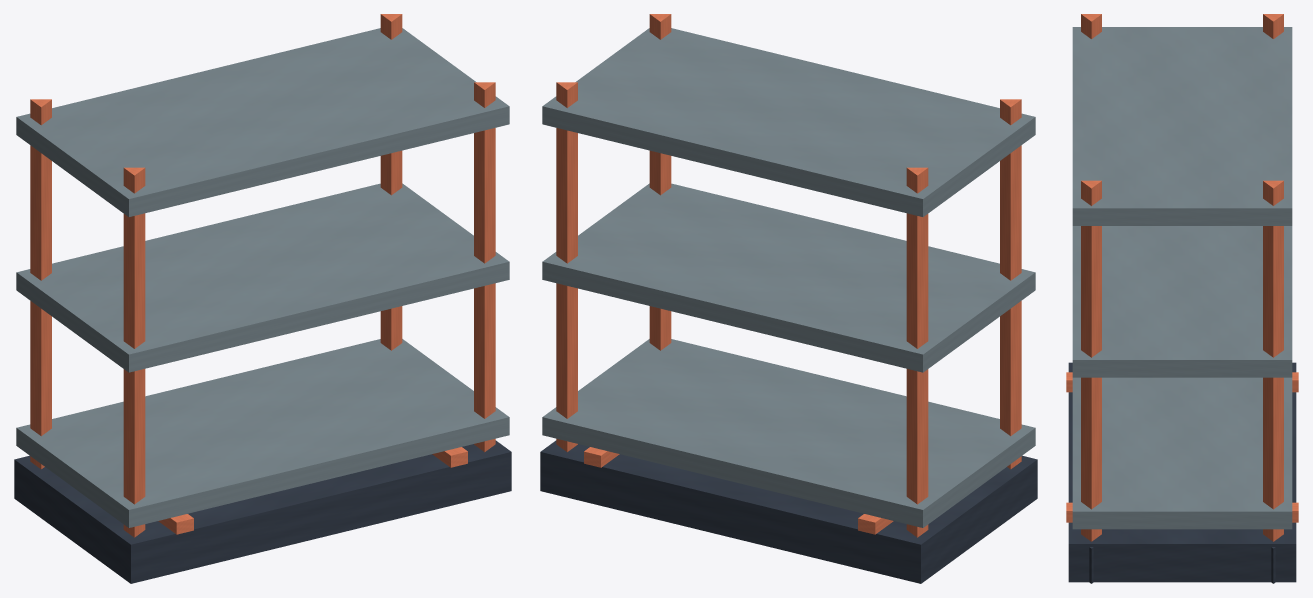
The model's file is atlas100-s023-a06.lod2.glb.
3 renders of one model, left to right at view 1: azimuth 30°, elevation 25°; view 2: azimuth 150°, elevation 25°; view 3: azimuth 270°, elevation 25°, orthographic. The views are drawn at different scales.
Parts seen in each view (by area): view 1: atlas100-s023-a06:part-013, atlas100-s023-a06:part-011, atlas100-s023-a06:part-012, atlas100-s023-a06:part-000, atlas100-s023-a06:part-005, atlas100-s023-a06:part-009, atlas100-s023-a06:part-003, atlas100-s023-a06:part-007; view 2: atlas100-s023-a06:part-013, atlas100-s023-a06:part-011, atlas100-s023-a06:part-012, atlas100-s023-a06:part-000, atlas100-s023-a06:part-003, atlas100-s023-a06:part-007, atlas100-s023-a06:part-005, atlas100-s023-a06:part-009; view 3: atlas100-s023-a06:part-013, atlas100-s023-a06:part-011, atlas100-s023-a06:part-012, atlas100-s023-a06:part-000, atlas100-s023-a06:part-007, atlas100-s023-a06:part-009, atlas100-s023-a06:part-003, atlas100-s023-a06:part-005.
Boxes of the visible parts, box(x1,y1,x2,y2) form: atlas100-s023-a06:part-013: box(16, 28, 509, 216); atlas100-s023-a06:part-011: box(16, 339, 509, 527); atlas100-s023-a06:part-012: box(16, 183, 509, 372); atlas100-s023-a06:part-000: box(14, 440, 511, 583); atlas100-s023-a06:part-005: box(123, 167, 145, 537); atlas100-s023-a06:part-009: box(474, 82, 495, 452); atlas100-s023-a06:part-003: box(30, 99, 51, 469); atlas100-s023-a06:part-007: box(380, 14, 402, 350); atlas100-s023-a06:part-013: box(542, 28, 1035, 216); atlas100-s023-a06:part-011: box(542, 339, 1035, 527); atlas100-s023-a06:part-012: box(542, 183, 1035, 372); atlas100-s023-a06:part-000: box(540, 440, 1037, 583); atlas100-s023-a06:part-003: box(906, 167, 928, 537); atlas100-s023-a06:part-007: box(556, 82, 577, 452); atlas100-s023-a06:part-005: box(1000, 99, 1021, 469); atlas100-s023-a06:part-009: box(649, 14, 671, 350); atlas100-s023-a06:part-013: box(1072, 27, 1292, 225); atlas100-s023-a06:part-011: box(1072, 377, 1292, 529); atlas100-s023-a06:part-012: box(1072, 226, 1292, 377); atlas100-s023-a06:part-000: box(1068, 362, 1296, 582); atlas100-s023-a06:part-007: box(1263, 180, 1283, 541); atlas100-s023-a06:part-009: box(1081, 180, 1101, 541); atlas100-s023-a06:part-003: box(1263, 14, 1283, 38); atlas100-s023-a06:part-005: box(1081, 14, 1101, 38).
Bounding box in the file's own units: 2.66 × 2.66 × 1.43.
Materials: 3 (3 with a texture image).
